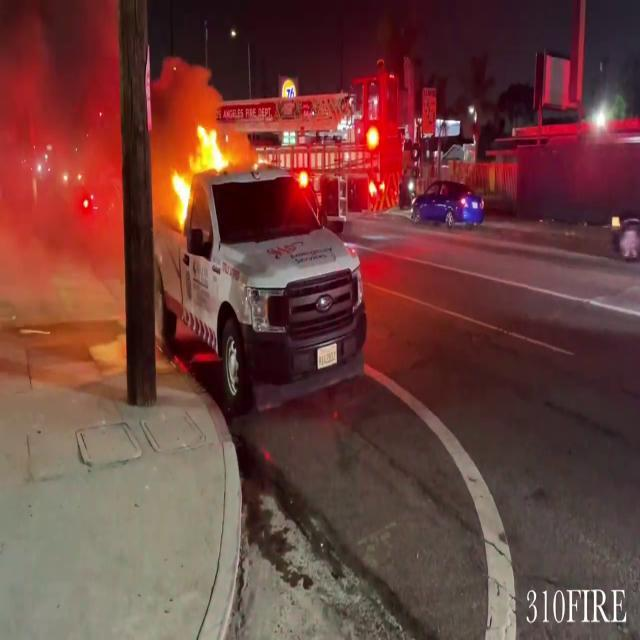Fire: (164, 116, 236, 225)
Smoke: (0, 0, 126, 357)
